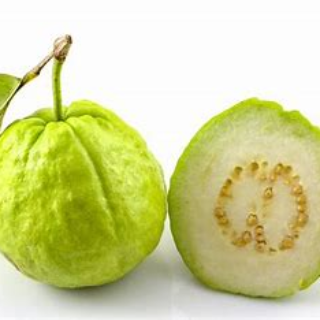oi: (1, 102, 168, 293)
